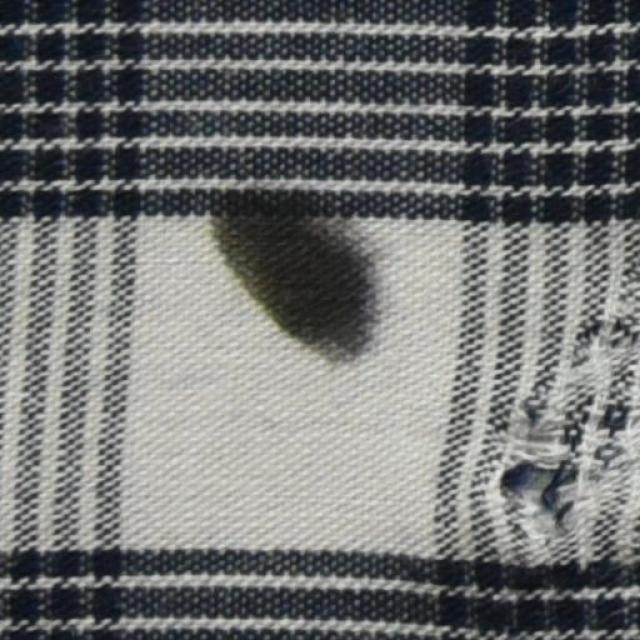Snag: (495, 320, 639, 545)
Stain: (181, 163, 384, 357)
